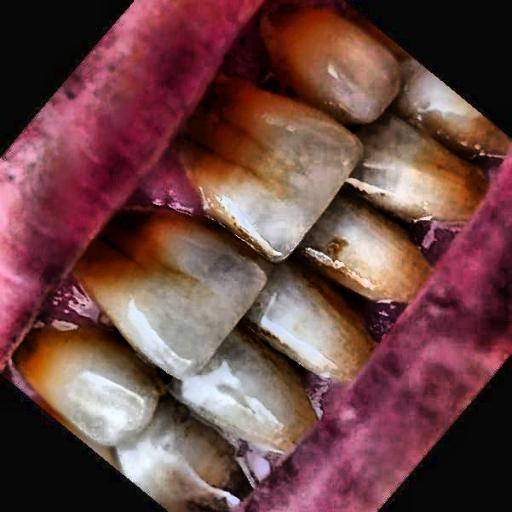Calculus: (18, 154, 380, 464), (169, 15, 512, 304)
